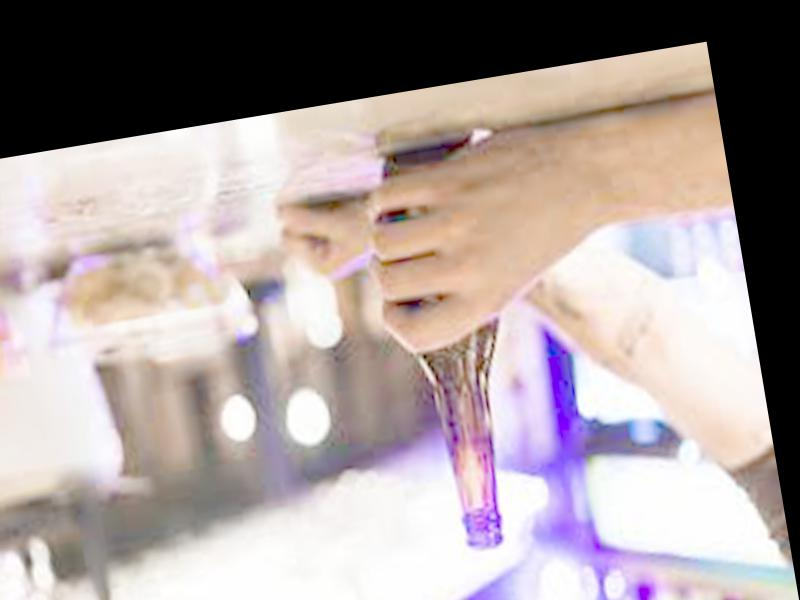Beer: (379, 140, 535, 556)
